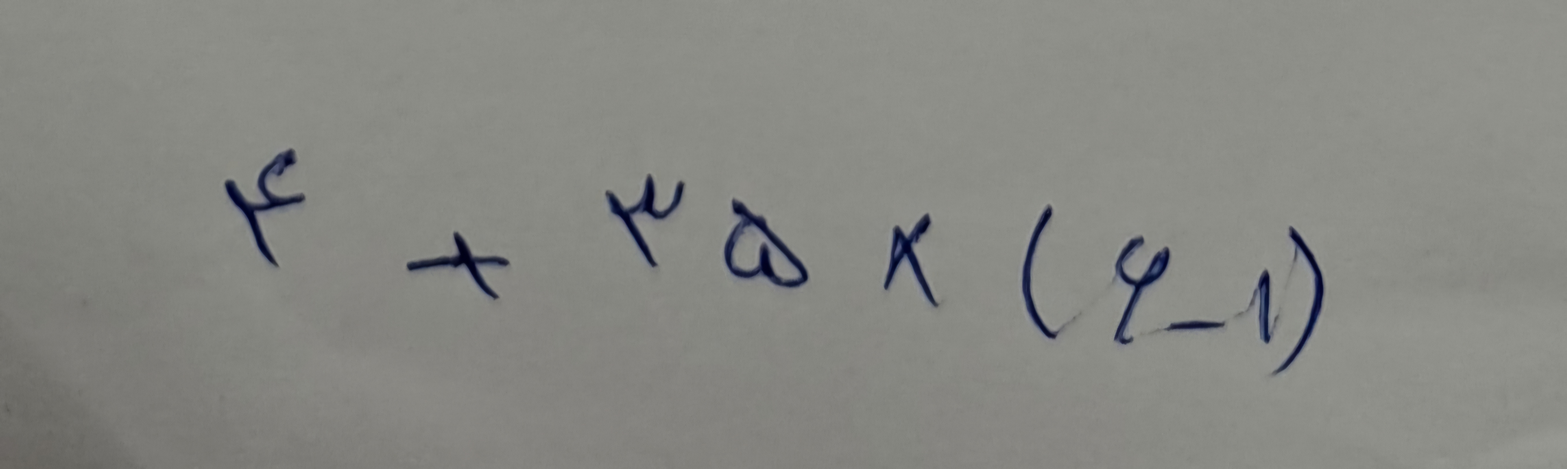character: (225, 150, 320, 280), (721, 197, 808, 297), (409, 225, 519, 304), (606, 171, 689, 270), (1281, 226, 1335, 367), (1113, 231, 1167, 347), (881, 213, 938, 307), (1021, 200, 1053, 341), (1250, 266, 1276, 343), (1160, 314, 1225, 336)
